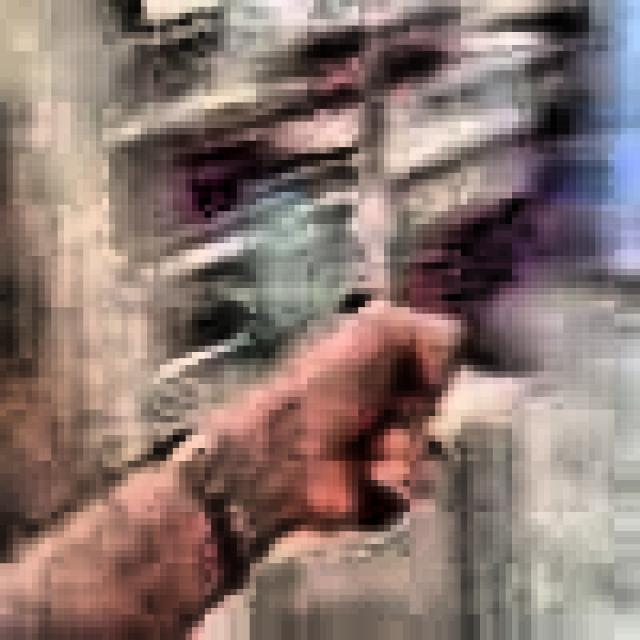knife: (353, 0, 400, 531)
